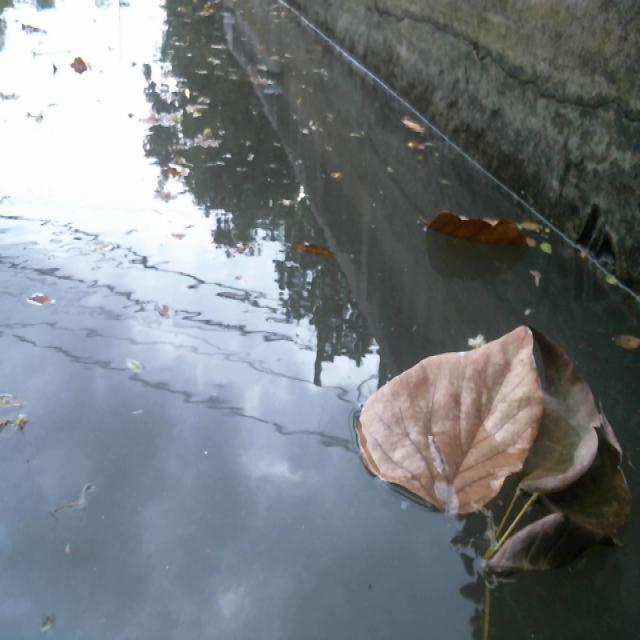Big-leaf: (345, 311, 545, 525), (477, 346, 640, 588), (421, 200, 532, 262)
Small-leaf: (289, 232, 348, 287), (405, 110, 450, 173), (610, 320, 640, 361), (23, 286, 56, 307)
